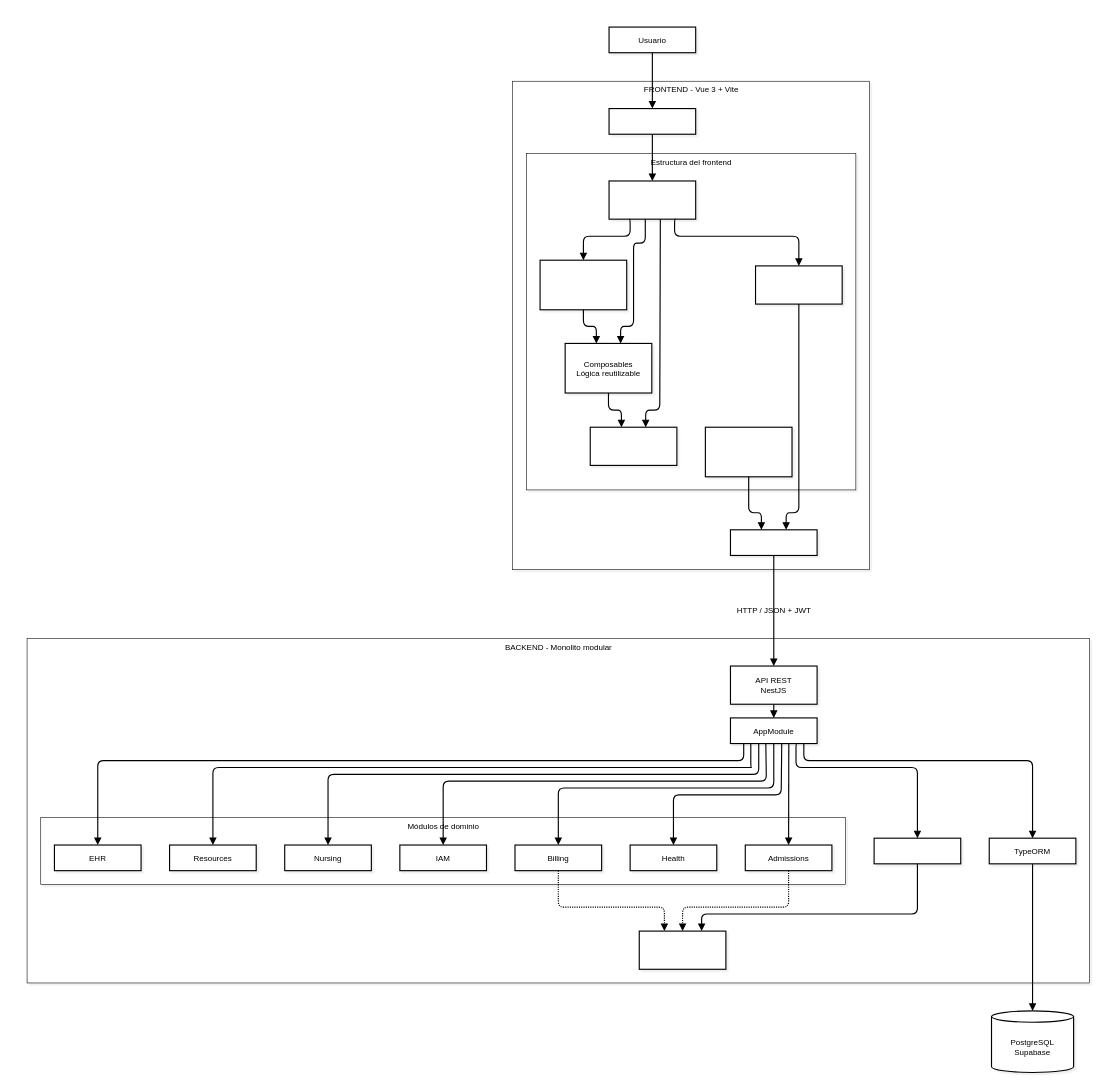
Some shapes in this 1102 by 1085 pixel diagram are drawn without their labels. The centre of each missing label's shape, as x and y in pixels:
App / Router: [653,122]
Components Componentes reutilizables: [584,285]
EventBus RxJS - memoria: [683,951]
Features Funcionalidades: [653,201]
HTTP compartido: [775,543]
Services Servicios API: [800,286]
Shared Recursos compartidos: [750,452]
SharedModule: [918,851]
Stores Pinia: [634,447]
